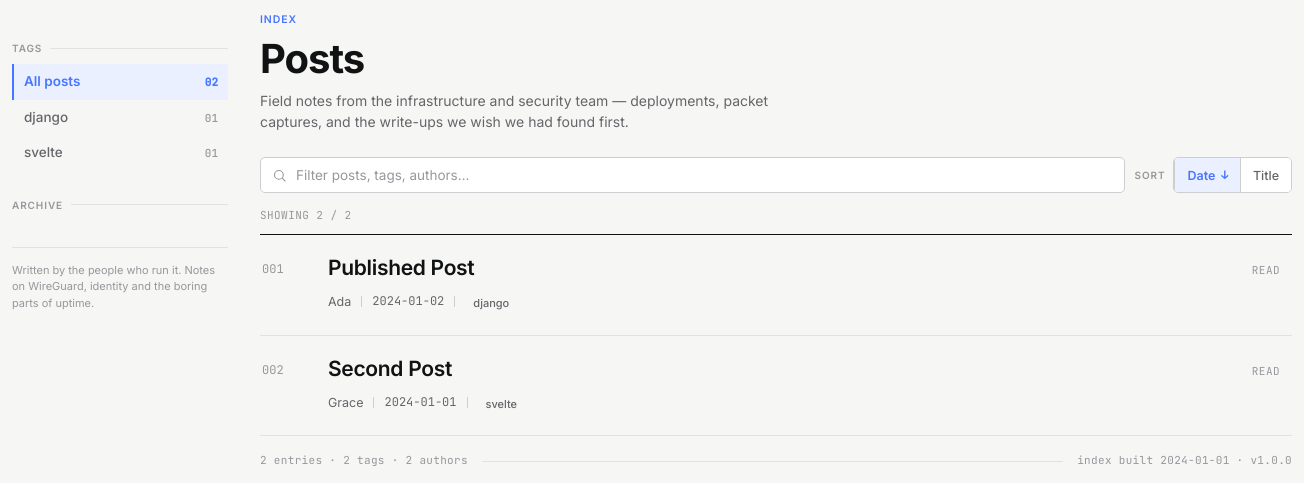
it: PostListPage › filters live as the search box is typed into
Type "grace" into the field with placeholder "Filter posts, tags, authors…" at (704, 175), box x1=296 y1=167 x2=1112 y2=183
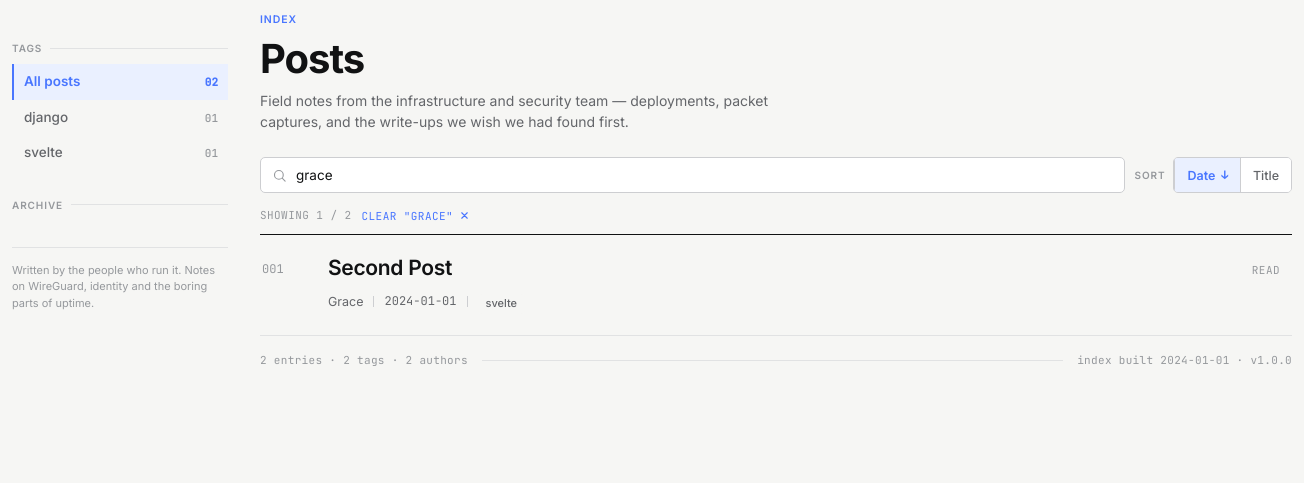
Expected: the link "Second Post" is shown, x1=328 y1=255 x2=452 y2=280
Expected: the link "Published Post" is gone
